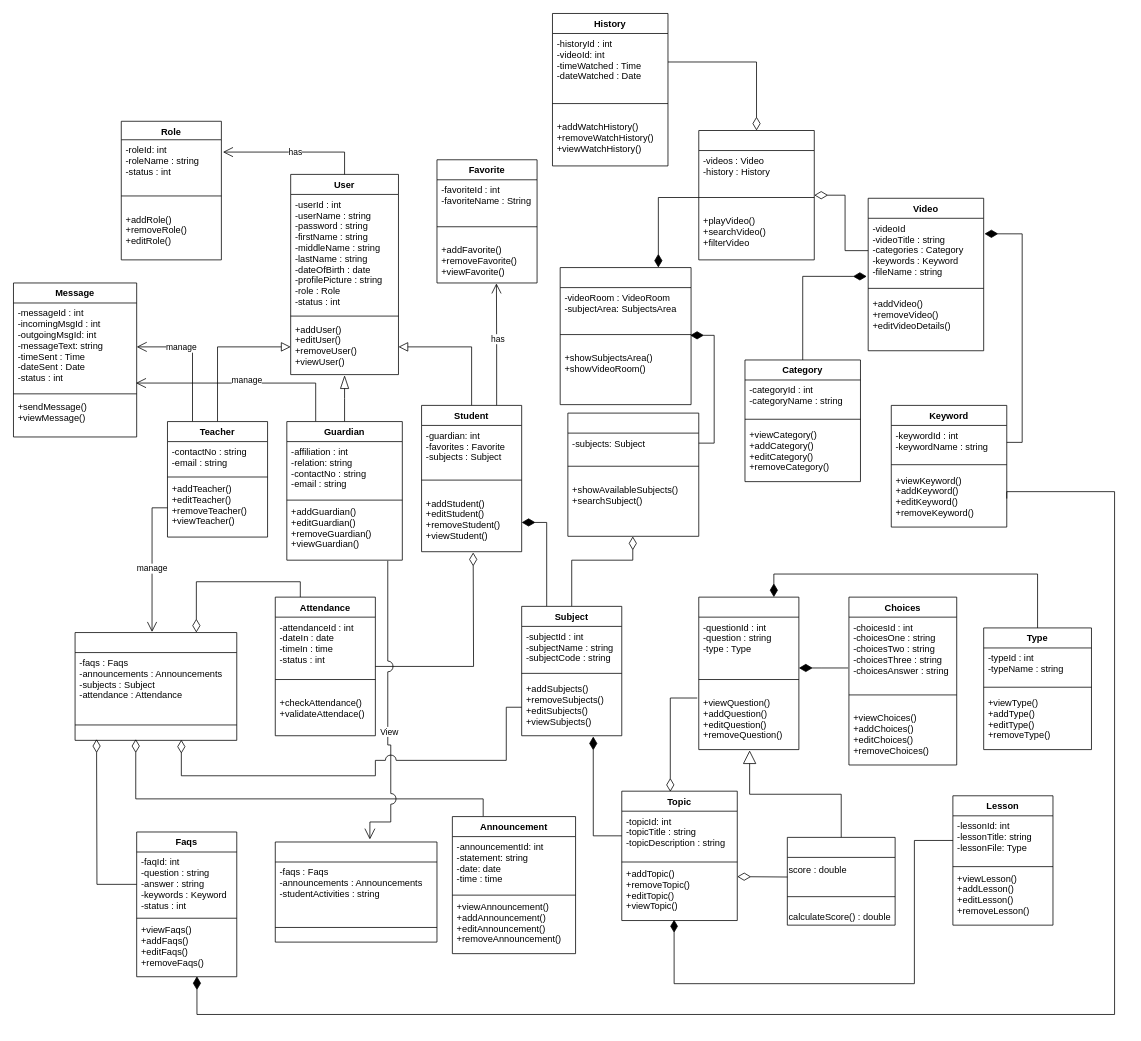
This 1141x1041 diagram has some shape labels left out. The box of each missing label's shape, as (x1, y1, x2, y2) in pixels:
Assessments: (787, 837, 895, 925)
GuardianArea: (275, 841, 437, 942)
KidsArea: (559, 267, 691, 405)
SubjectsArea: (567, 412, 699, 536)
TeacherArea: (74, 632, 237, 740)
TrialQuestions: (698, 596, 799, 750)
VideoRoom: (698, 130, 814, 260)
